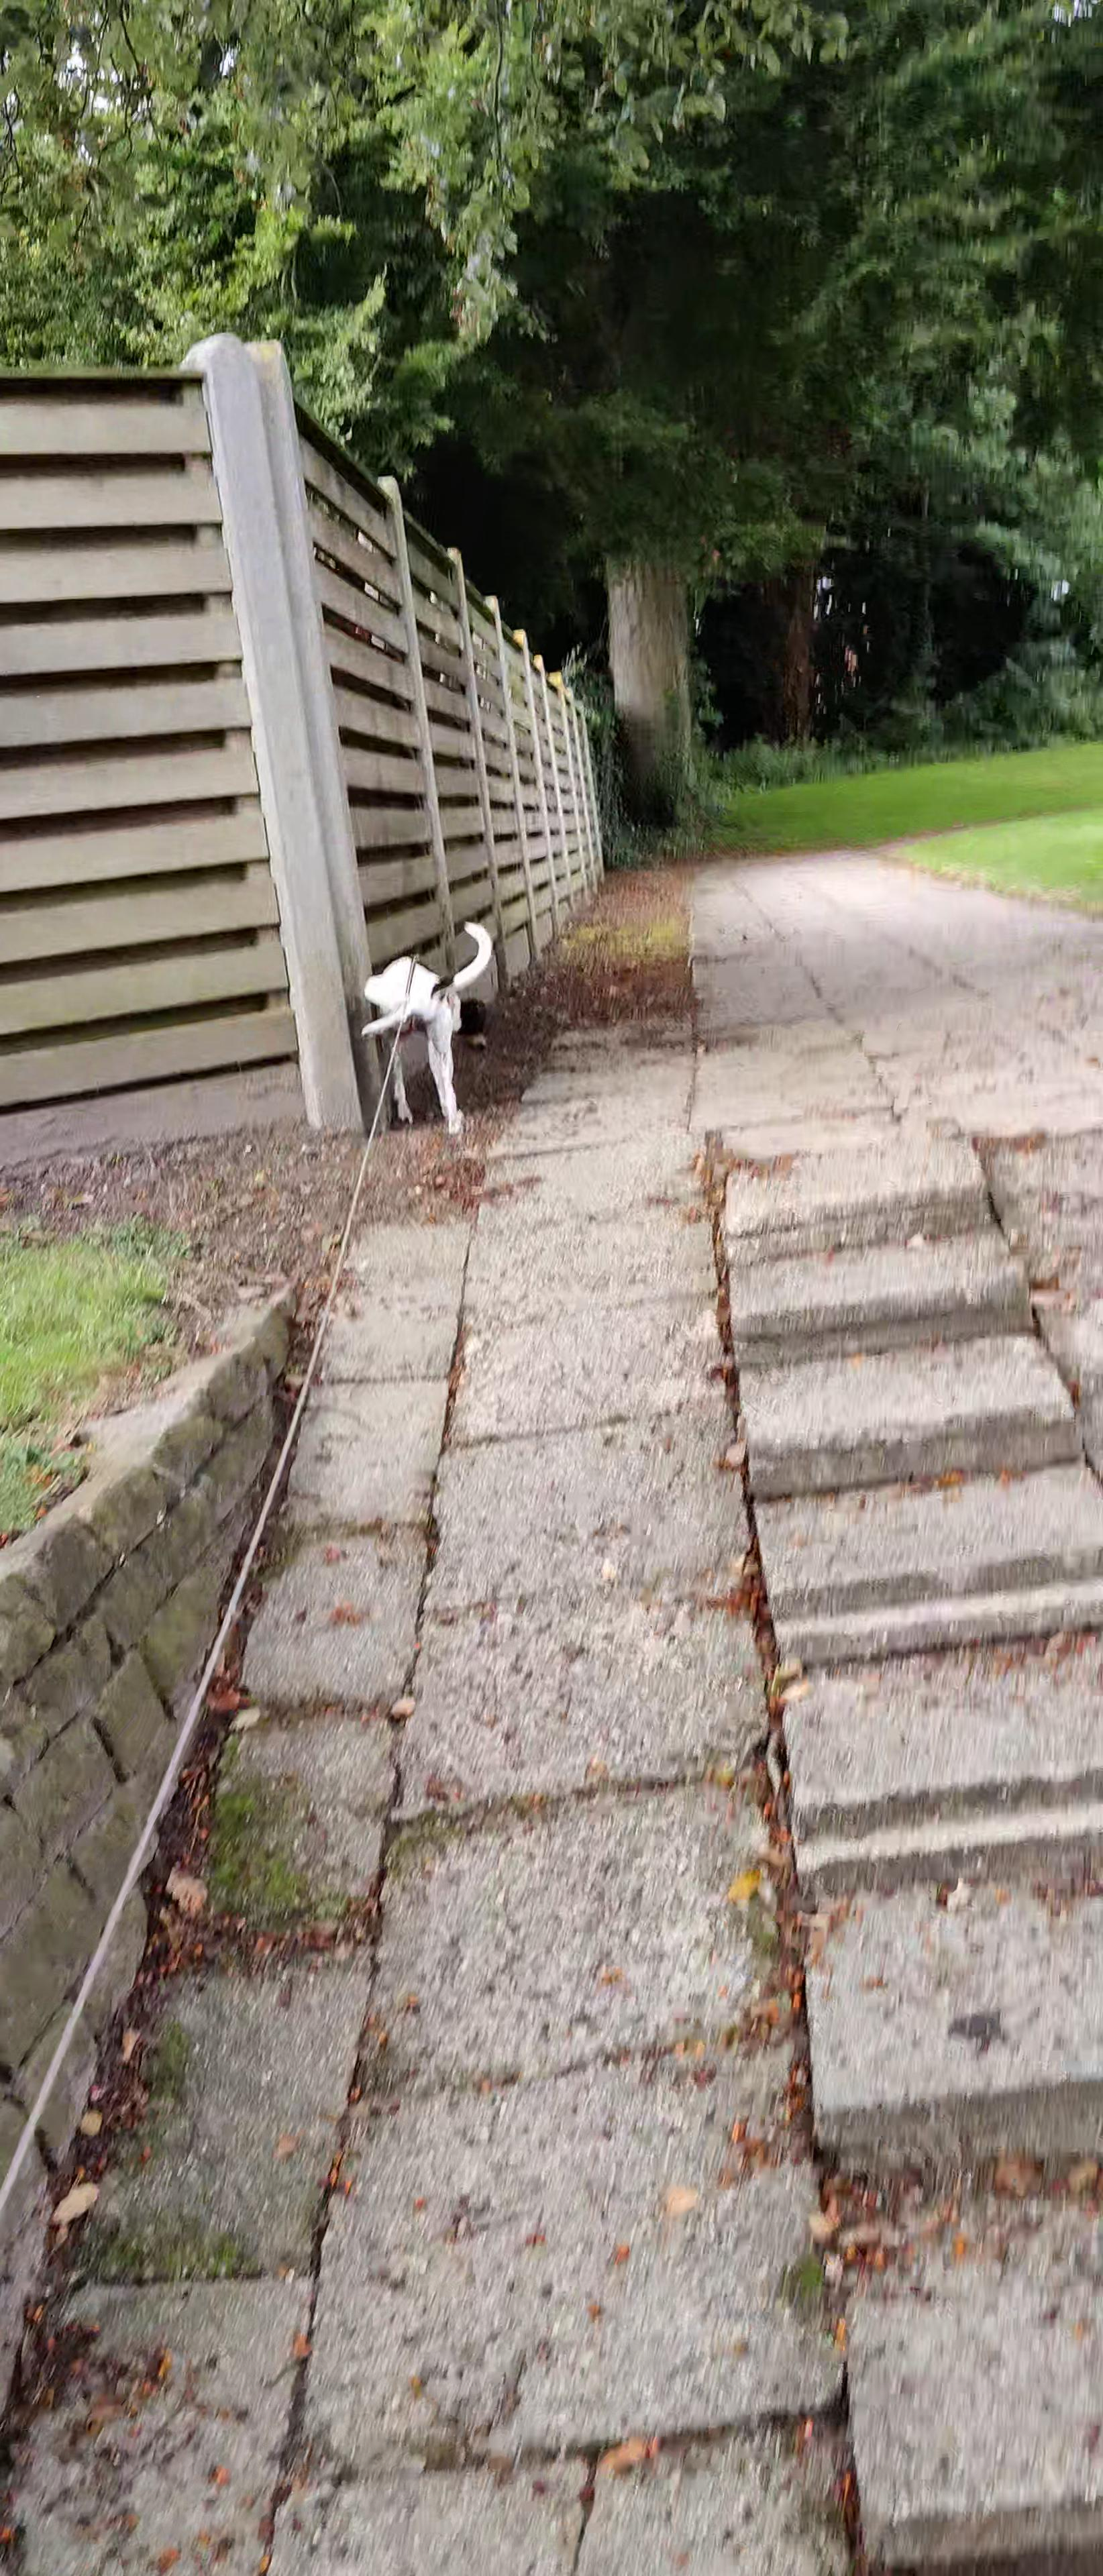Dog: (355, 920, 496, 1134)
